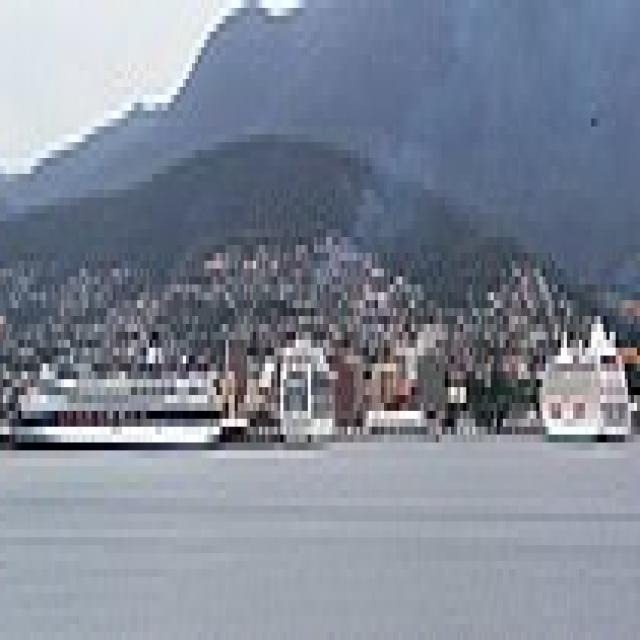Cruise: (539, 300, 637, 442)
